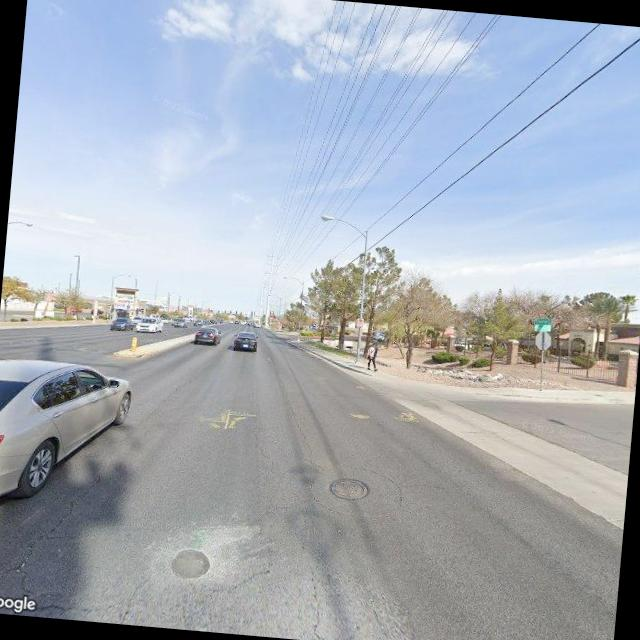pothole: (0, 492, 77, 594), (298, 559, 339, 640)
